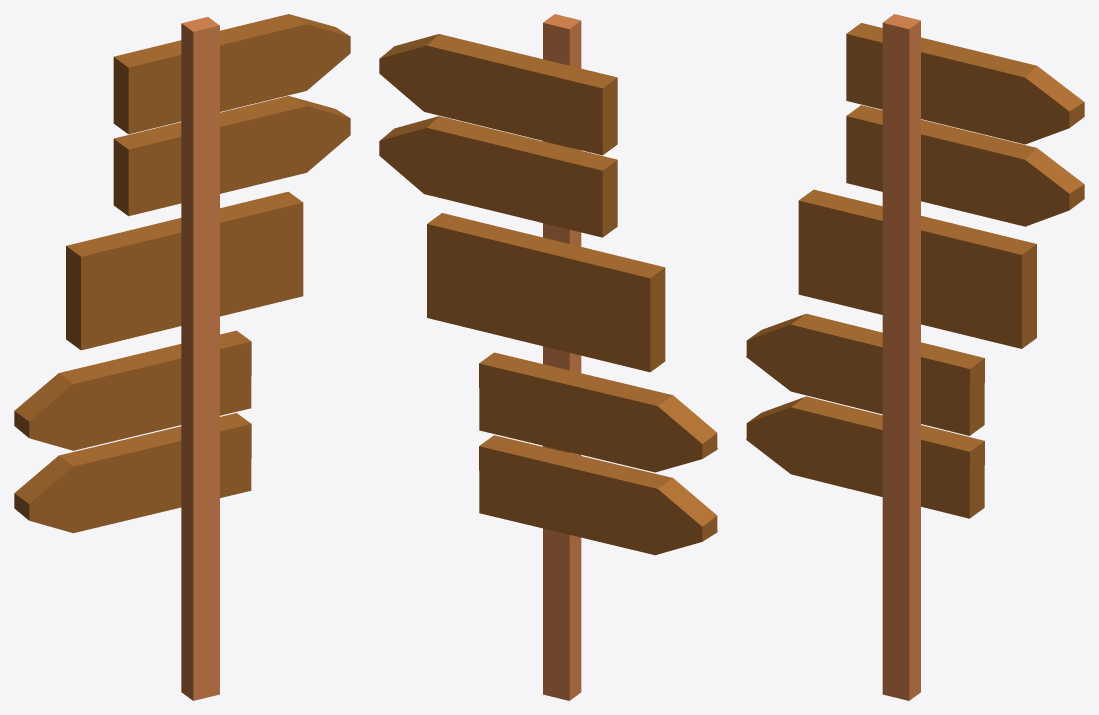
File: largeSign.glb
The picture shows the model from 3 angles, left to right: view 1: azimuth 30°, elevation 25°; view 2: azimuth 150°, elevation 25°; view 3: azimuth 330°, elevation 25°; orthographic projection.
Visible parts, largest first — view 1: Cube; view 2: Cube; view 3: Cube.
Boxes of the visible parts, x1,y1,x2,y2 form: Cube: [14, 14, 350, 700]; Cube: [379, 14, 717, 700]; Cube: [746, 14, 1084, 700].
Size of the model in its own units: 2.89 by 5.75 by 0.4574.
